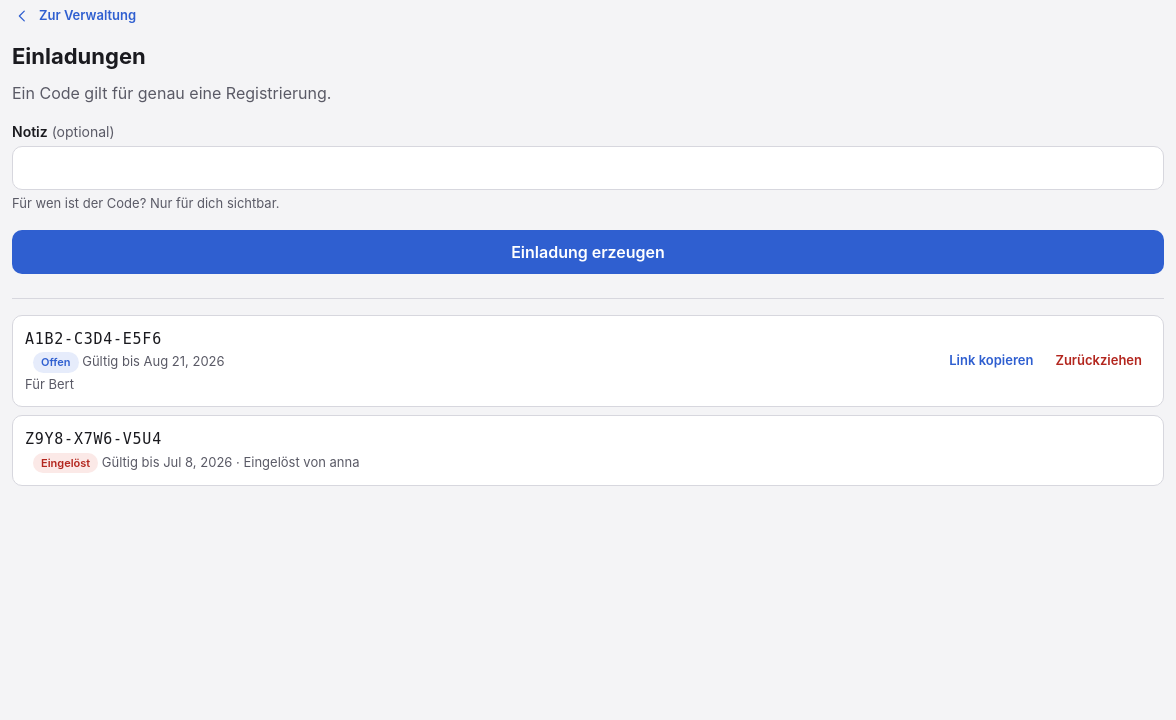
Test: the administration › says so when the clipboard refuses instead of pretending
expect the text "A1B2-C3D4-E5F6" is shown: met, box [25,330,162,348]
Click the button "Link kopieren".
click(991, 361)  # box [940,345,1042,377]
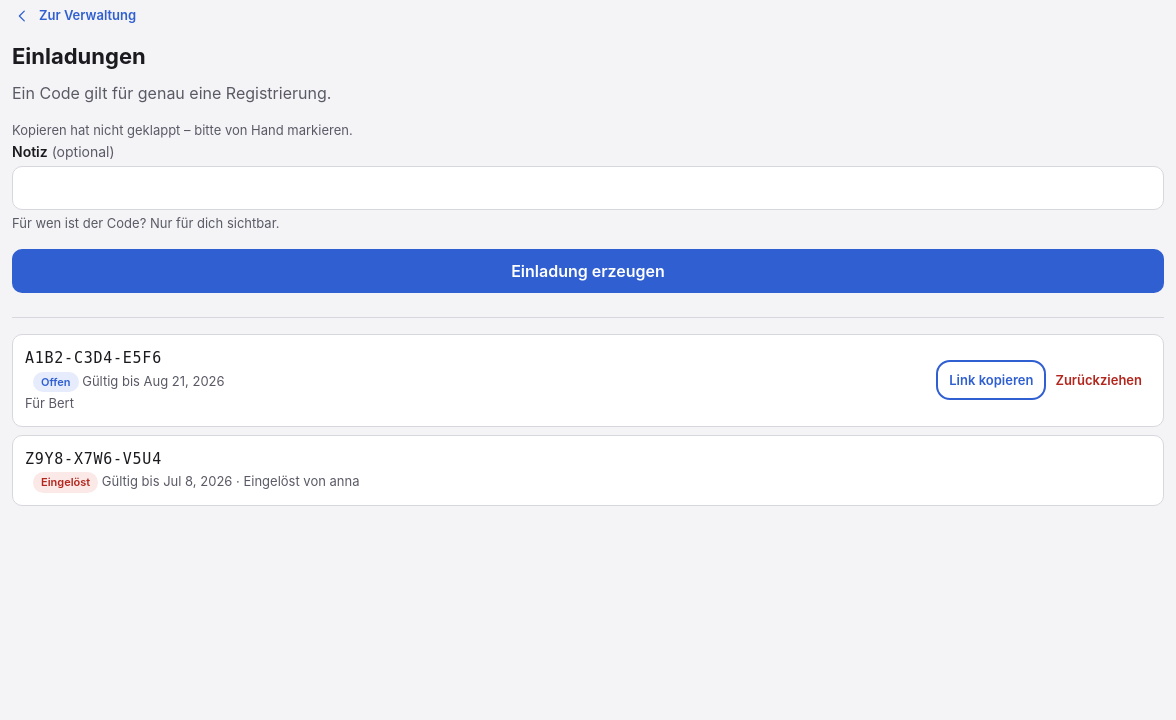
expect the text "Kopieren hat nicht geklappt – bitte von Hand markieren." is shown: met, box [12,122,353,138]
